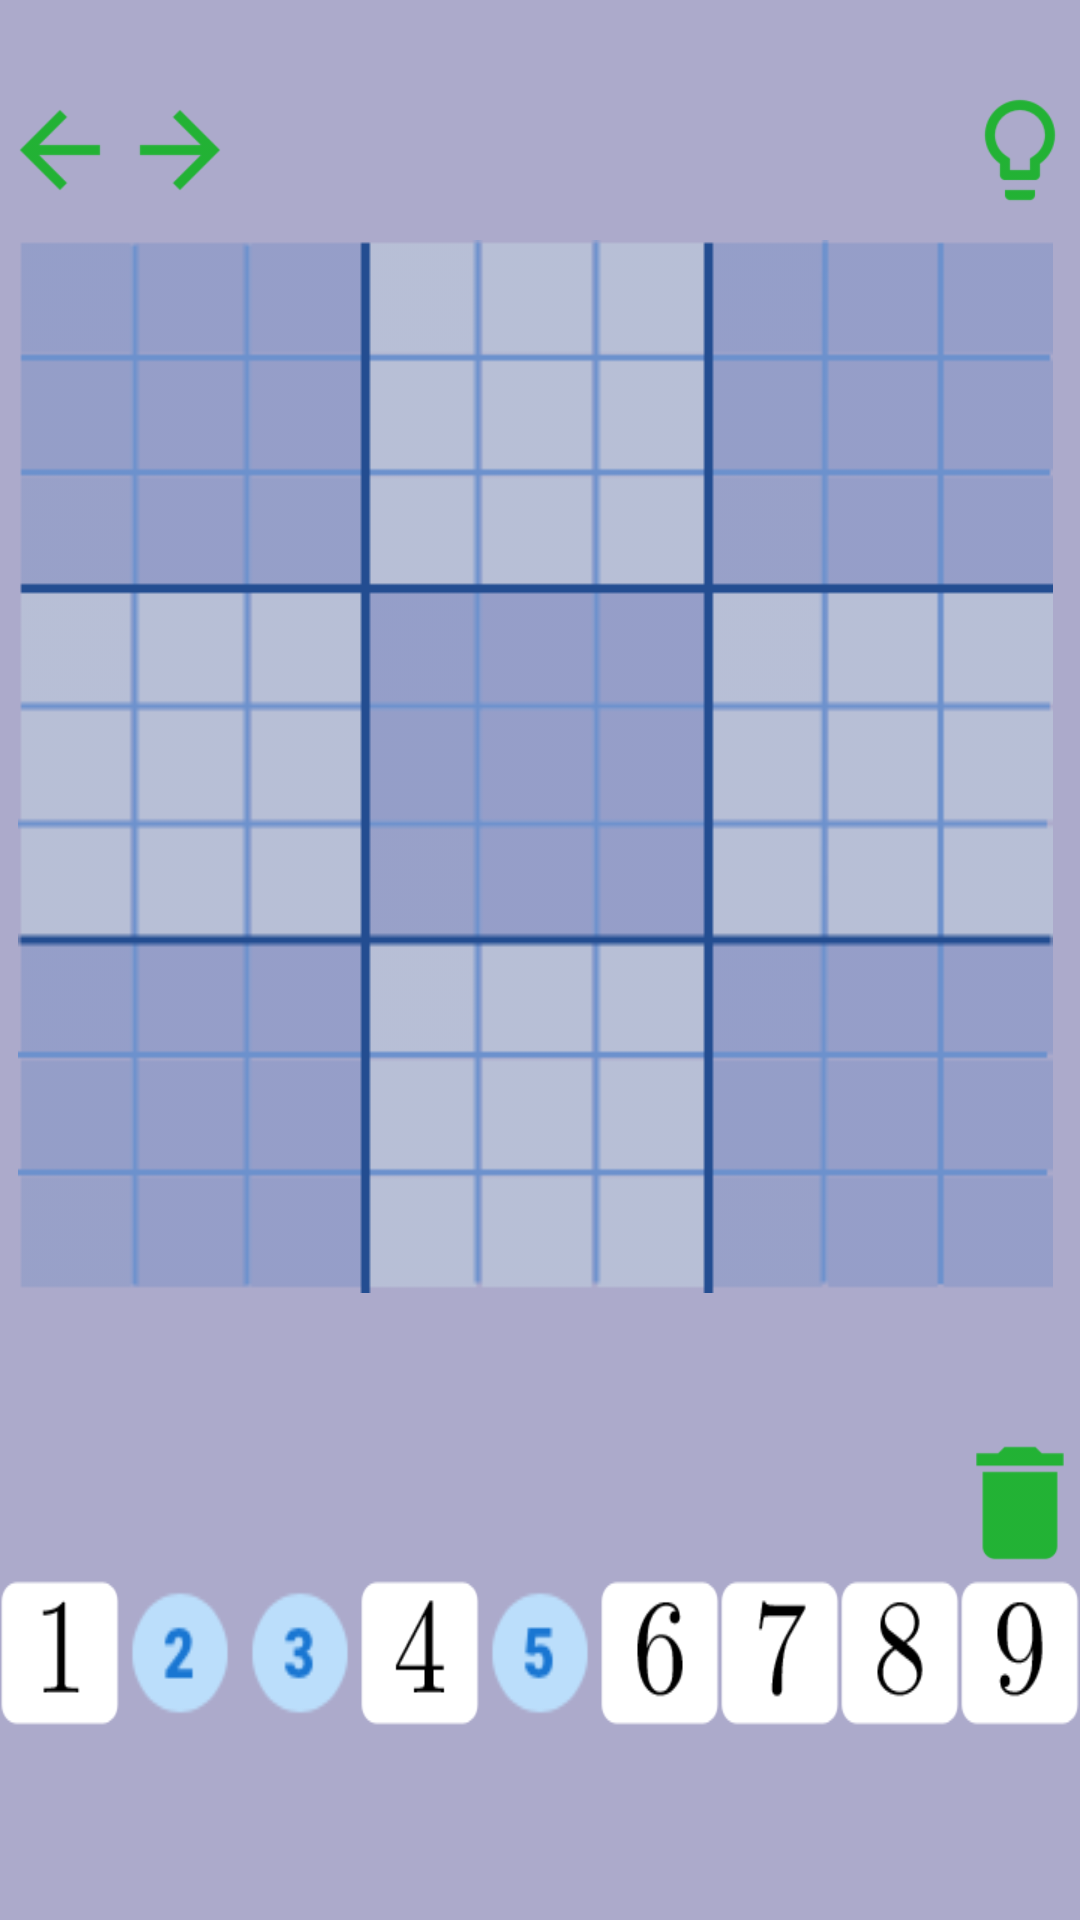

Icon click points for this 1080*1920 phone screenshot, format [x,y]:
backward: [60,150]
delete: [1020,1503]
forword: [179,150]
help: [1019,150]
